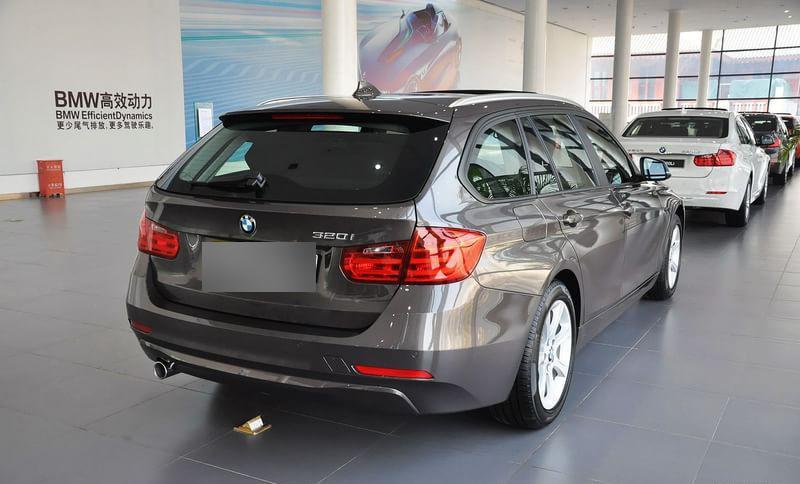Wagon: (124, 79, 687, 430)
